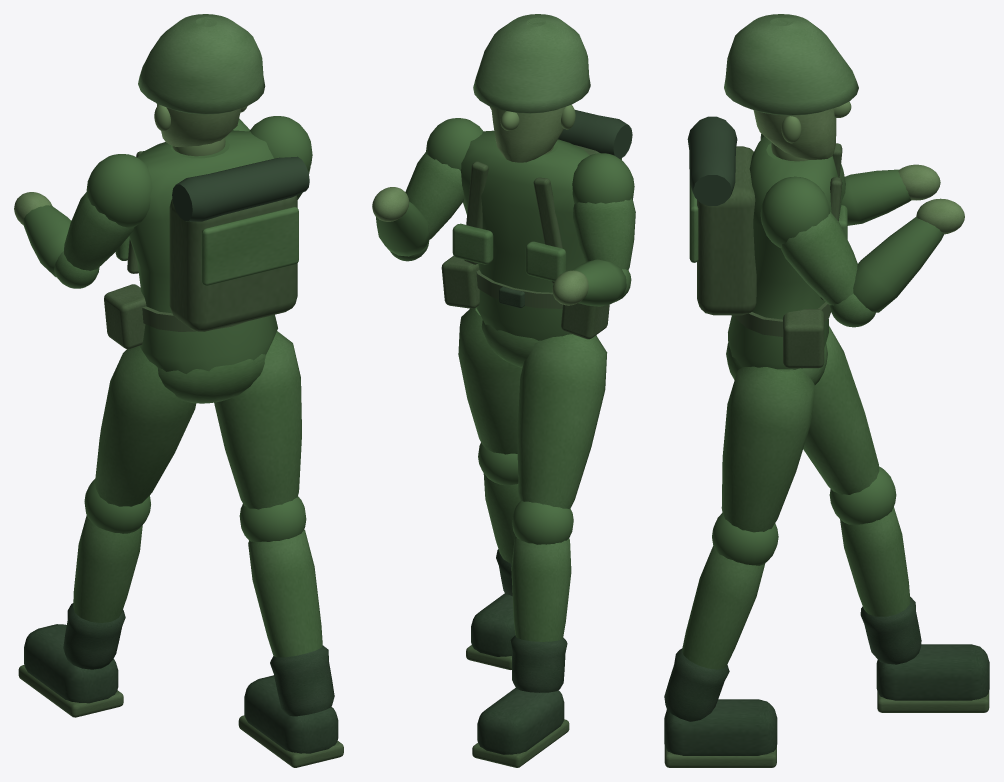
The model's file is crew_standing.glb.
The picture shows the model from 3 angles, left to right: view 1: azimuth 30°, elevation 25°; view 2: azimuth 150°, elevation 25°; view 3: azimuth 270°, elevation 25°; orthographic projection. The views are drawn at different scales.
Parts seen in each view (by area): view 1: CrewTorso, CrewHead, RightShin, RightThigh, LeftThigh, LeftShin, LeftUpper, LeftBoot, RightBoot, LeftLower, RightUpper; view 2: CrewTorso, LeftThigh, CrewHead, LeftShin, LeftUpper, RightThigh, LeftBoot, RightUpper, RightShin, RightLower, LeftLower, RightBoot; view 3: CrewTorso, CrewHead, RightThigh, RightShin, LeftShin, RightUpper, LeftThigh, LeftBoot, RightBoot, RightLower, LeftLower.
Boxes of the visible parts, left/top/right/bottom form: CrewTorso: left=104, top=130, right=309, bottom=403; CrewHead: left=138, top=14, right=265, bottom=156; RightShin: left=239, top=496, right=334, bottom=716; RightThigh: left=214, top=331, right=301, bottom=509; LeftThigh: left=95, top=346, right=196, bottom=506; LeftShin: left=63, top=479, right=150, bottom=669; LeftUpper: left=64, top=154, right=152, bottom=270; LeftBoot: left=18, top=624, right=123, bottom=717; RightBoot: left=238, top=675, right=343, bottom=767; LeftLower: left=14, top=192, right=99, bottom=288; RightUpper: left=249, top=116, right=312, bottom=199; CrewTorso: left=441, top=110, right=632, bottom=367; LeftThigh: left=517, top=334, right=607, bottom=508; CrewHead: left=473, top=14, right=590, bottom=162; LeftShin: left=510, top=501, right=573, bottom=692; LeftUpper: left=572, top=153, right=635, bottom=269; RightThigh: left=458, top=308, right=522, bottom=454; LeftBoot: left=472, top=688, right=569, bottom=767; RightUpper: left=405, top=118, right=483, bottom=239; RightShin: left=478, top=442, right=520, bottom=596; RightLower: left=372, top=187, right=429, bottom=261; LeftLower: left=552, top=259, right=631, bottom=306; RightBoot: left=466, top=593, right=515, bottom=669; CrewTorso: left=687, top=116, right=847, bottom=384; CrewHead: left=724, top=14, right=858, bottom=161; RightThigh: left=721, top=366, right=815, bottom=532; RightShin: left=664, top=513, right=778, bottom=721; LeftShin: left=829, top=466, right=921, bottom=664; RightUpper: left=760, top=176, right=857, bottom=305; LeftThigh: left=803, top=326, right=879, bottom=494; LeftBoot: left=876, top=644, right=989, bottom=712; RightBoot: left=664, top=699, right=777, bottom=767; RightLower: left=829, top=198, right=964, bottom=327; LeftLower: left=841, top=164, right=940, bottom=225.
Size of the model in its own units: 0.662 by 1.79 by 0.7462.
5 materials, 5 textured.
